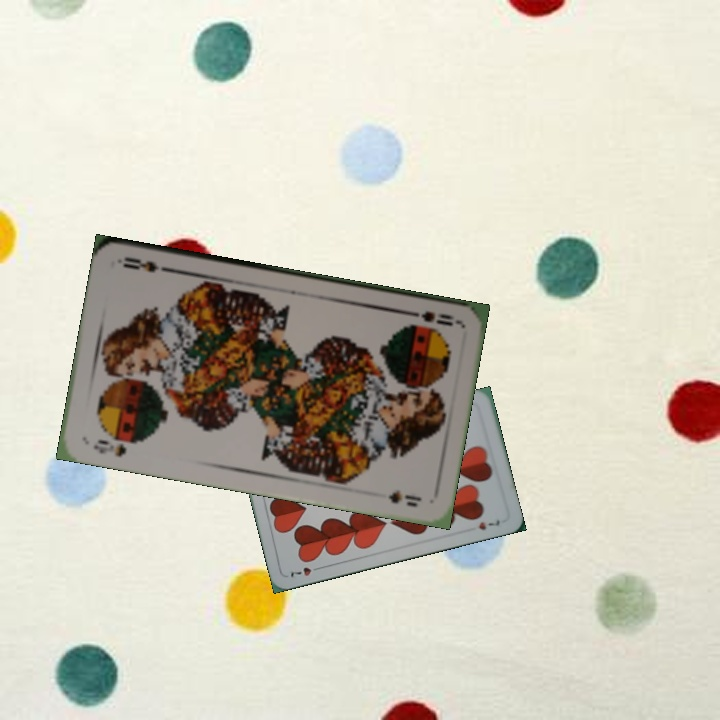H7: (286, 563, 325, 580)
SO: (89, 432, 144, 460), (401, 306, 461, 329)
